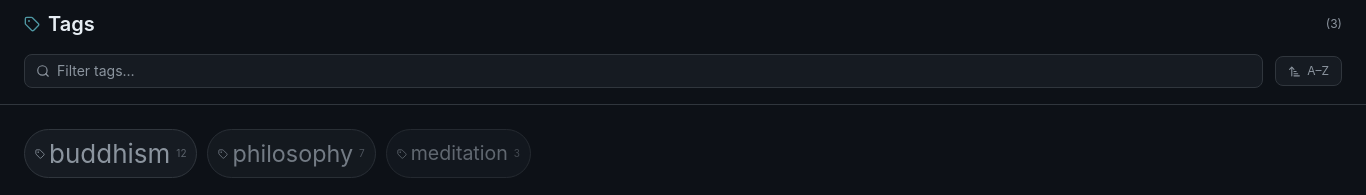
Test case: TagsPage › filter input narrows visible tags
Check: the button "buddhism 12" is shown, box [24,129,198,178]
Type "phil" into the search field with placeholder "Filter tags…".
click(644, 71); type("phil")  # box [24,54,1263,88]
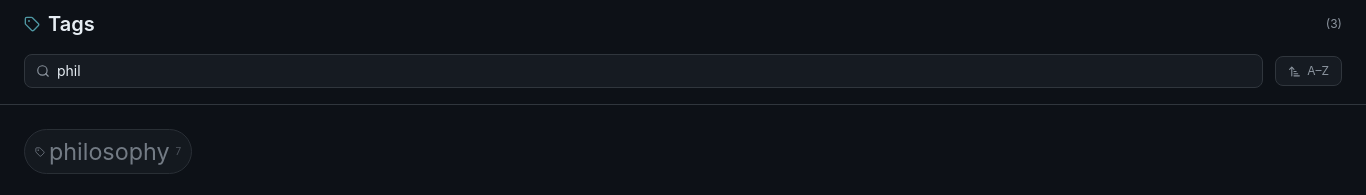
Check: the button "philosophy 7" is shown, box [24,129,192,174]
Check: the button "buddhism" is gone
